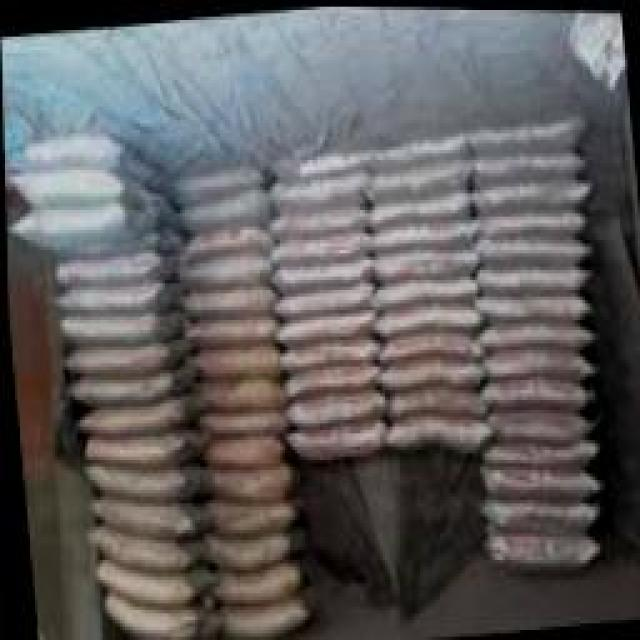gunny_bag: (18, 199, 153, 246), (71, 357, 194, 408), (17, 167, 144, 213), (102, 590, 214, 639), (57, 302, 179, 344), (82, 422, 203, 463), (95, 521, 198, 569), (56, 272, 174, 313), (94, 490, 196, 537), (65, 335, 185, 374), (56, 245, 162, 289), (98, 555, 205, 598), (366, 147, 468, 192), (178, 180, 270, 228), (286, 419, 383, 462), (374, 295, 474, 336), (86, 461, 195, 498), (283, 382, 382, 422), (475, 171, 582, 208), (480, 492, 596, 526), (483, 460, 595, 495), (213, 558, 299, 603), (221, 594, 309, 637), (273, 186, 367, 225), (368, 182, 467, 219), (474, 252, 575, 288), (275, 301, 375, 337), (283, 325, 375, 364), (488, 403, 592, 437), (203, 526, 289, 567), (370, 241, 474, 274), (274, 274, 368, 310), (376, 271, 475, 305), (380, 353, 478, 387), (274, 245, 365, 281), (371, 214, 472, 246), (284, 355, 370, 392), (471, 142, 576, 172), (182, 249, 269, 285), (386, 416, 482, 448), (480, 284, 579, 315), (200, 492, 292, 525), (202, 461, 291, 495), (182, 220, 268, 255), (191, 373, 279, 407), (476, 226, 578, 255), (381, 331, 475, 362), (484, 374, 581, 404), (482, 314, 584, 342), (183, 283, 272, 315), (189, 337, 276, 369), (482, 345, 589, 371), (484, 532, 594, 557), (276, 223, 364, 254), (199, 402, 283, 431), (387, 389, 480, 414), (185, 315, 273, 341), (205, 433, 282, 461)
